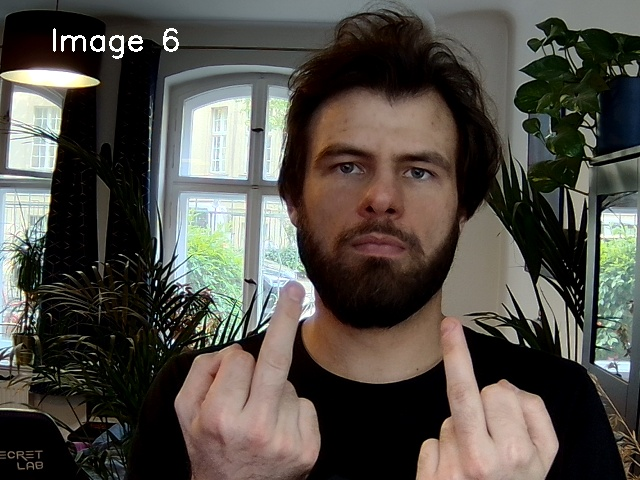Peace Among Worlds: (163, 273, 571, 479)
